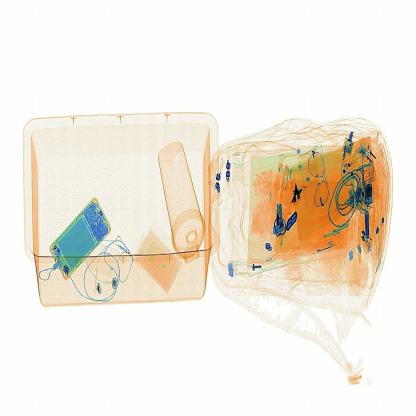gun: (285, 178, 314, 216)
